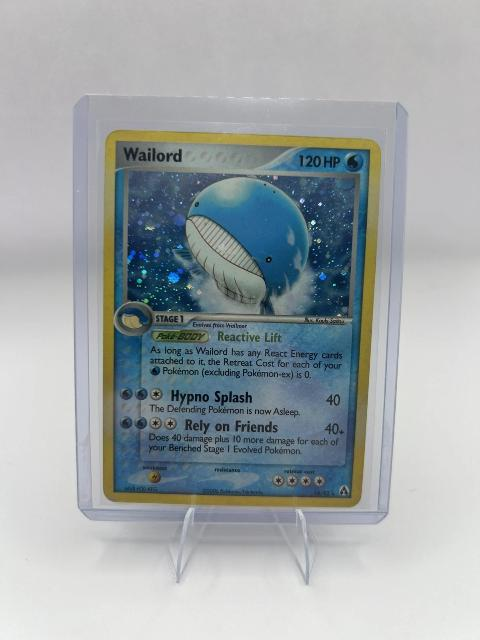Card: (100, 126, 385, 509)
Name: (118, 142, 189, 168)
